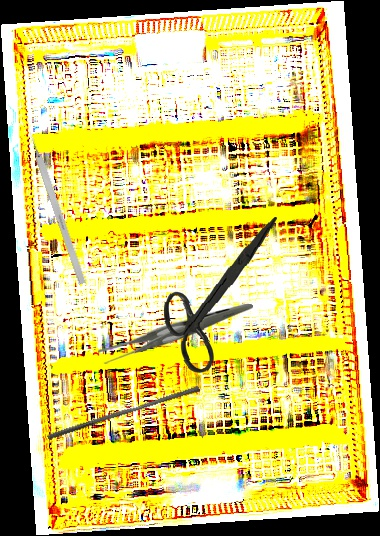Dressing Forceps: (97, 303, 254, 365)
Hook Surgical: (25, 127, 87, 285)
Iris Scissors: (160, 211, 278, 377)
Pusher: (46, 380, 201, 446)
